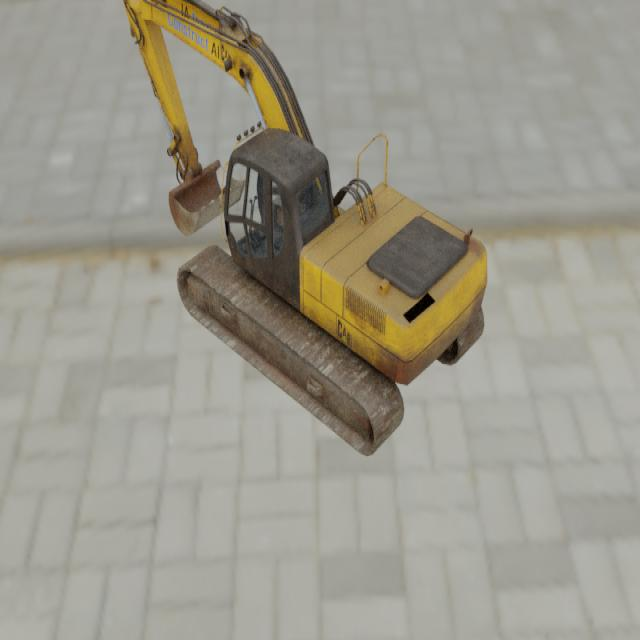excavator: (121, 0, 487, 457)
